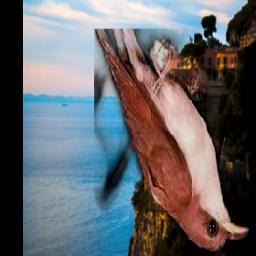Cuckoo: (95, 29, 250, 251)
